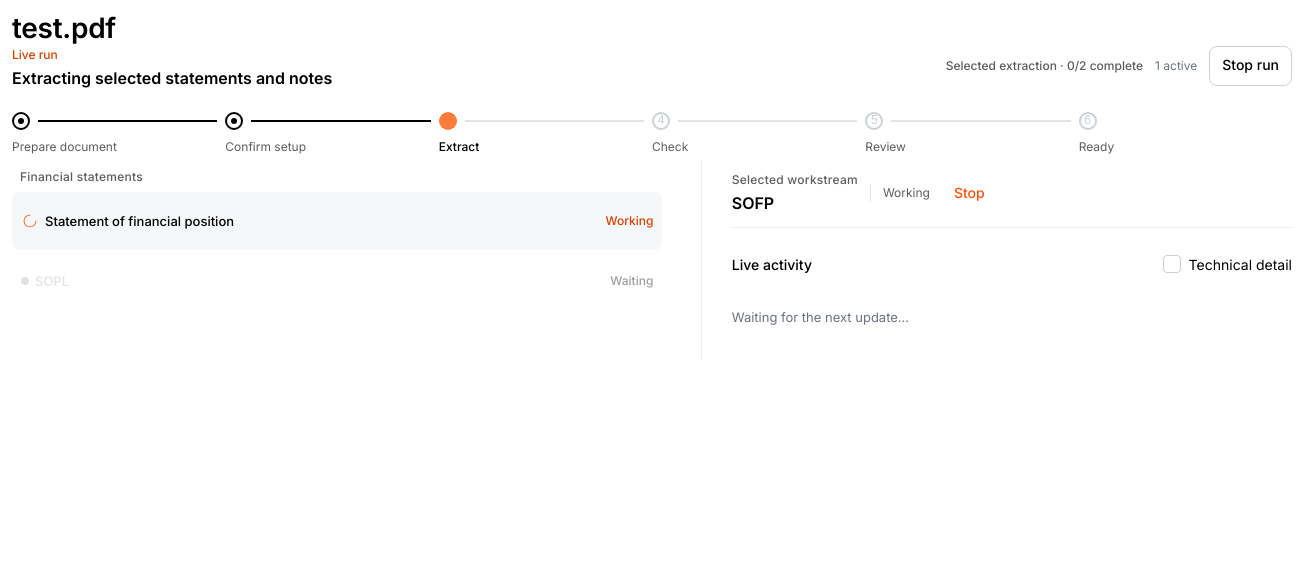
it: ExtractPage — render-gate regression guards › live run uses one progress surface and a grouped workstream workspace
Expected: the heading "Extracting selected statements and notes" is shown, [12, 68, 332, 88]
Expected: the element named "Workflow progress" is shown, [12, 112, 1292, 160]
Click the checkbox labelled "Technical detail" at (1172, 264), box [1163, 255, 1181, 273]
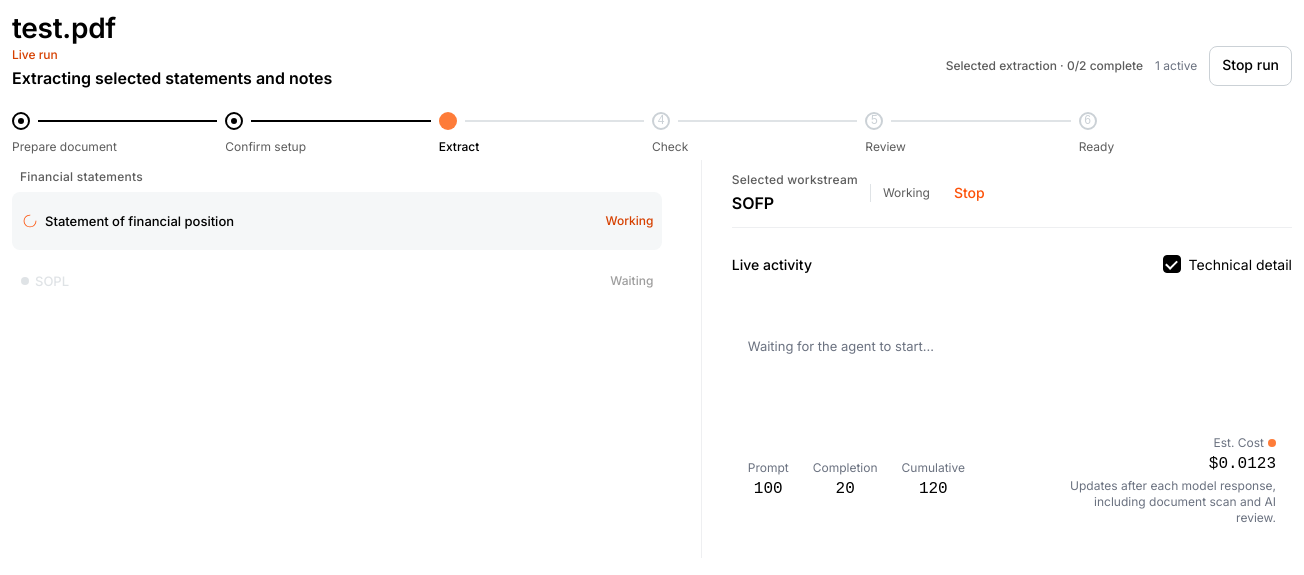
Now the element with test id "activity-technical" shows "$0.0123", box [1209, 455, 1276, 473]
